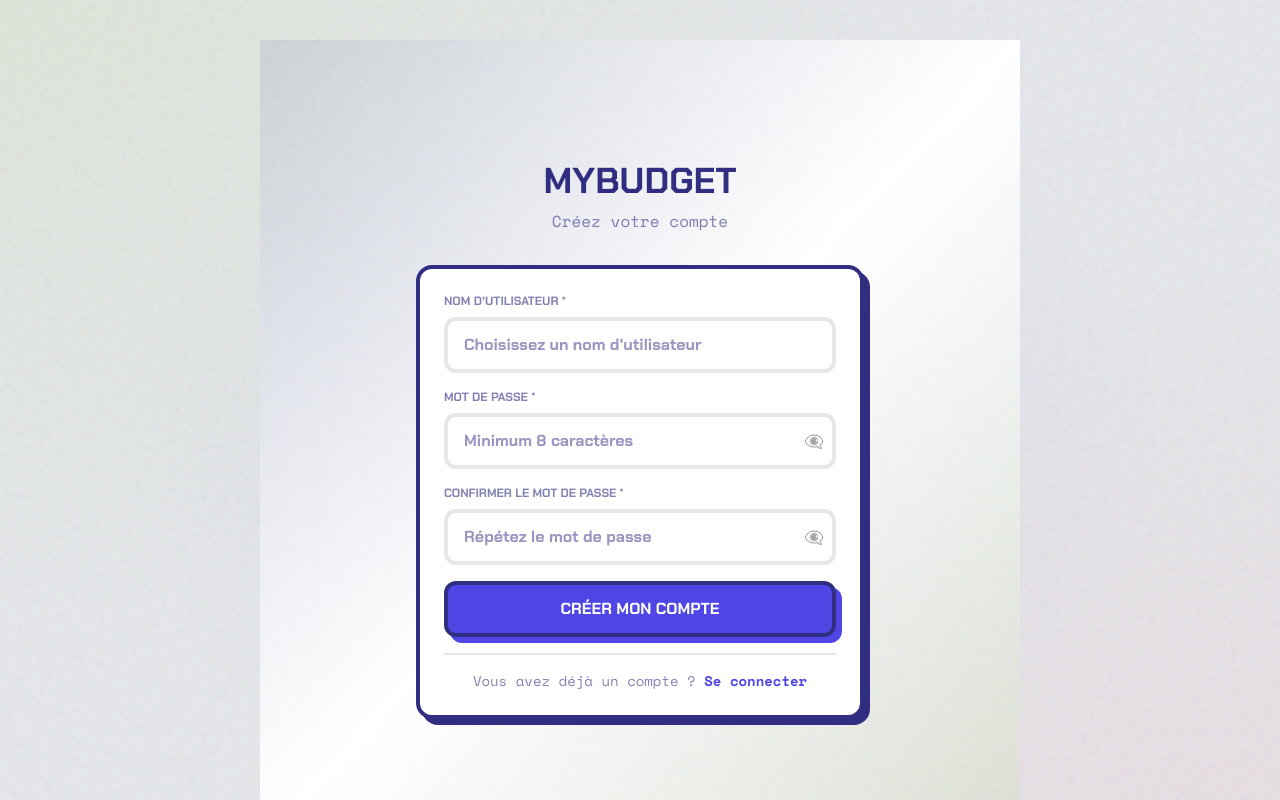
Scenario: US01 - Inscription › Un indicateur de force du mot de passe est affiché en temps réel
Type "Abcdef1!" into the password field with placeholder "Minimum 8 caractères". click: (640, 441)
box: [444,413,836,469]
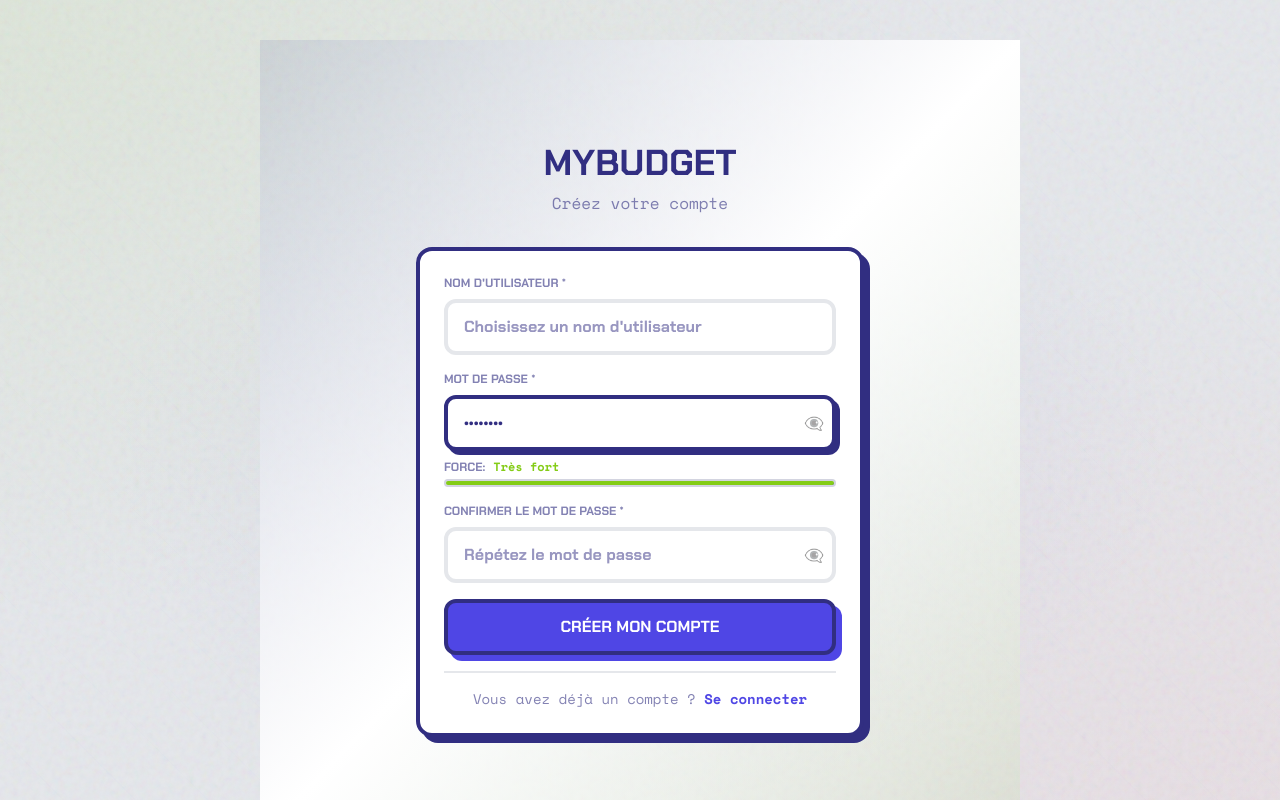
Expected: the text "Force:" is shown, [444,459,485,475]
Expected: the text "Très fort" is shown, [493,459,559,475]
